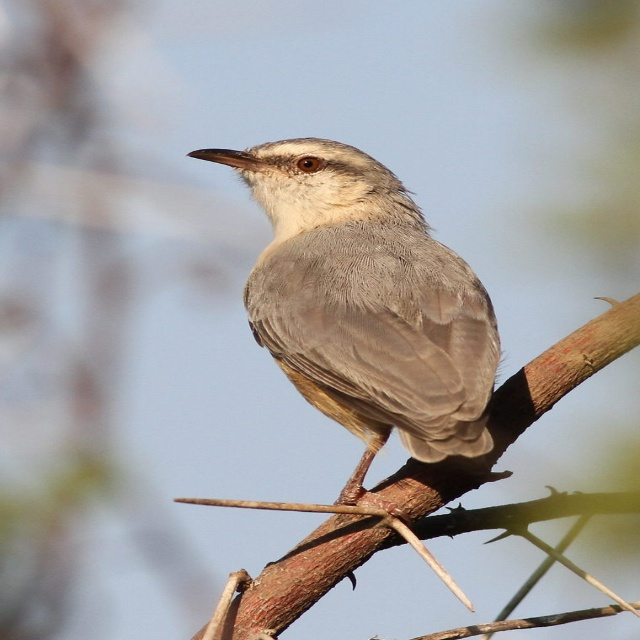Sparrow: (189, 132, 500, 505)
